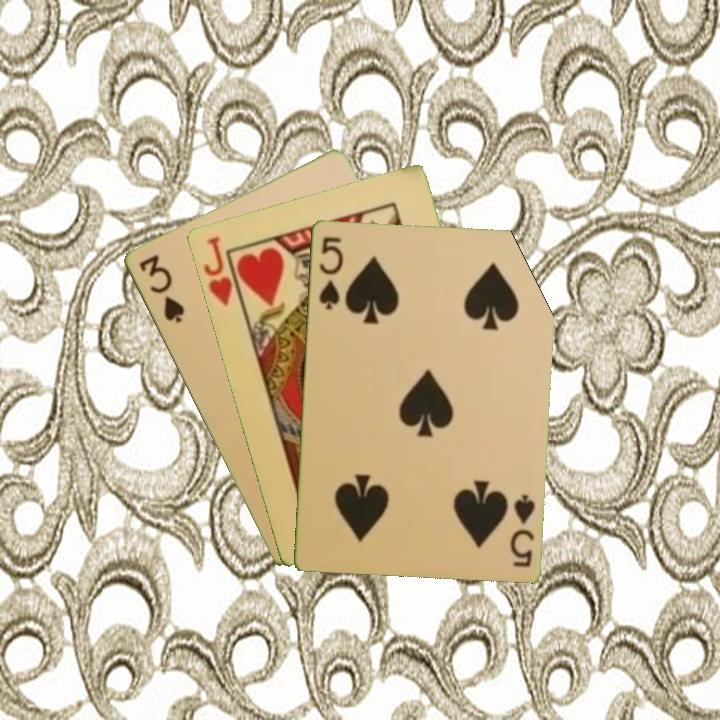3s: (135, 251, 187, 326)
5s: (506, 490, 538, 570), (315, 233, 345, 312)
Jh: (199, 232, 235, 308)
